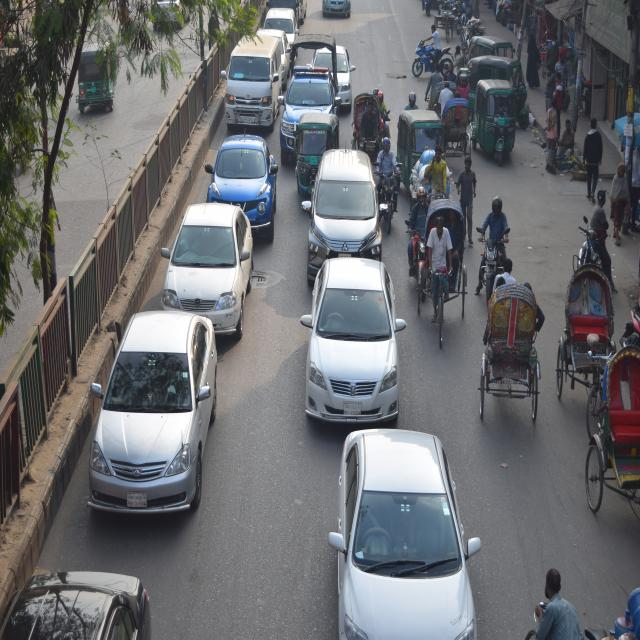car: (331, 428, 476, 640), (82, 310, 223, 527), (308, 257, 410, 410), (0, 556, 159, 640), (158, 200, 250, 319), (313, 143, 378, 258), (211, 127, 279, 217), (261, 0, 300, 36), (338, 42, 357, 113)
microbus: (228, 36, 282, 117)
motorbike: (575, 208, 609, 281), (478, 222, 508, 291), (375, 160, 400, 232), (409, 42, 454, 79), (411, 213, 430, 275), (371, 98, 391, 141), (423, 0, 458, 23)
pickup-van: (278, 42, 338, 145)
